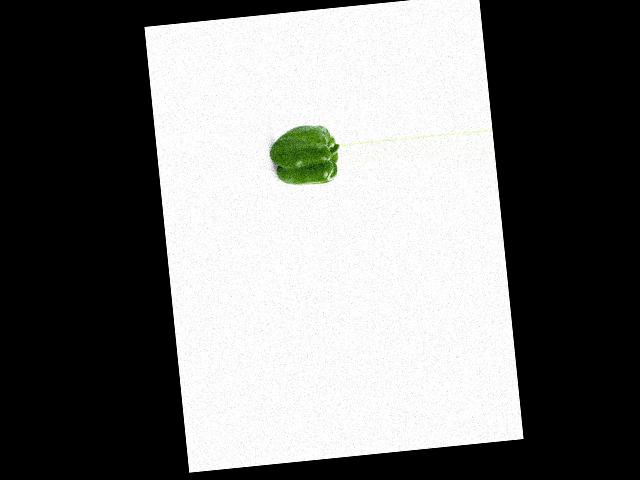bell_pepper: (269, 121, 341, 189)
